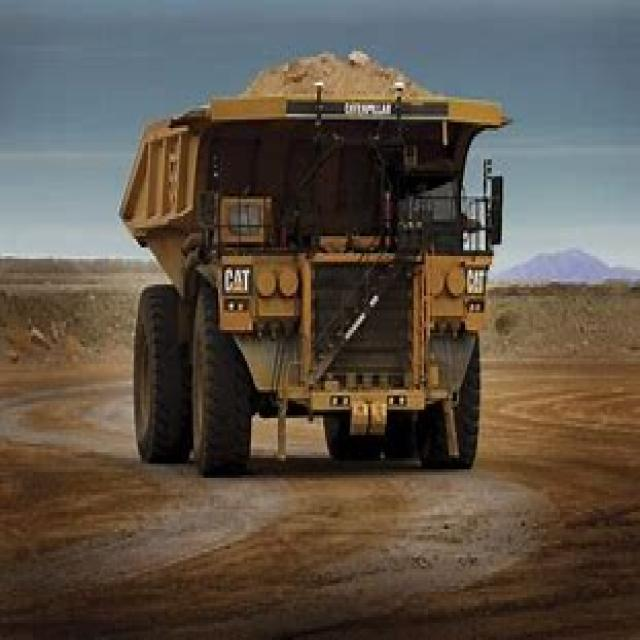dump_truck: (105, 43, 498, 469)
